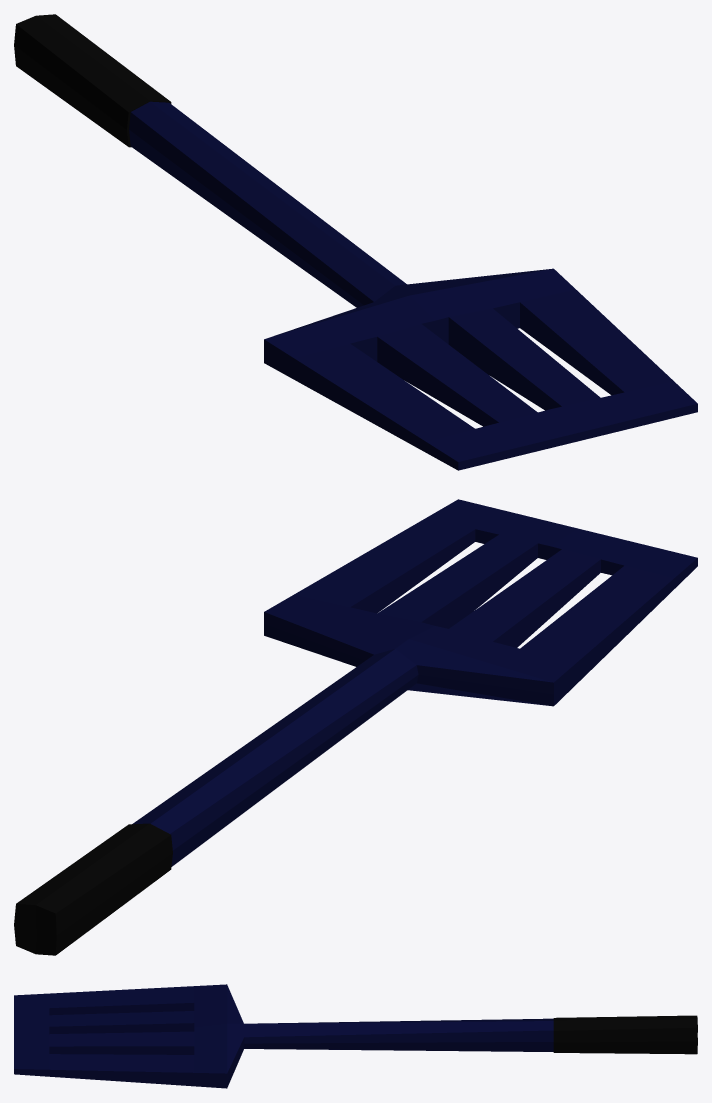
The model's file is Sudip.fbx.
3 renders of one model, top to bottom at view 1: azimuth 30°, elevation 25°; view 2: azimuth 150°, elevation 25°; view 3: azimuth 270°, elevation 25°, orthographic. The views are drawn at different scales.
Visible parts, largest first — view 1: Spatula; view 2: Spatula; view 3: Spatula.
Boxes of the visible parts, <box> form: Spatula: <box>14,14,697,470</box>; Spatula: <box>14,499,697,955</box>; Spatula: <box>14,984,697,1088</box>.
Bounding box in the file's own units: 15.4 × 2.51 × 49.97.
